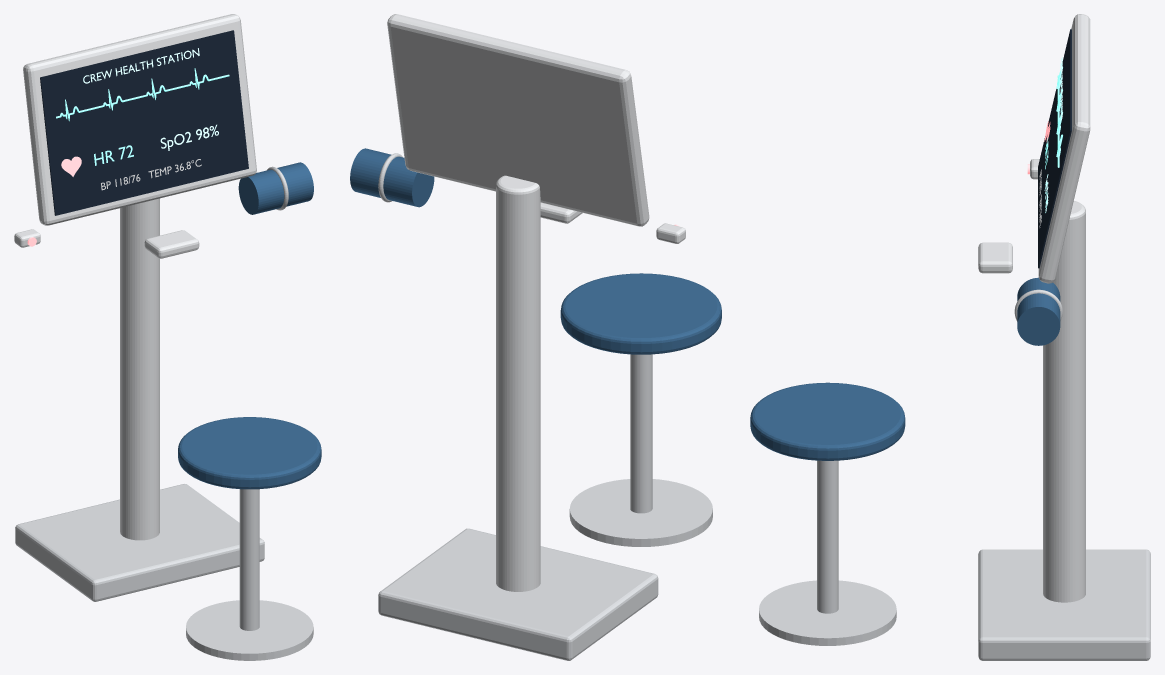
Rendered from health_station.glb.
3 renders of one model, left to right at view 1: azimuth 30°, elevation 25°; view 2: azimuth 150°, elevation 25°; view 3: azimuth 270°, elevation 25°, orthographic. The views are drawn at different scales.
Parts seen in each view (by area): view 1: Base_Plate, HR_Value, SpO2_Value; view 2: Base_Plate; view 3: Base_Plate.
Boxes of the visible parts, left/top/right/bottom form: Base_Plate: left=14, top=14, right=321, bottom=660; HR_Value: left=56, top=68, right=229, bottom=165; SpO2_Value: left=83, top=48, right=218, bottom=150; Base_Plate: left=350, top=14, right=721, bottom=660; Base_Plate: left=750, top=14, right=1150, bottom=660.
Bounding box in the file's own units: 0.83 × 1.41 × 0.93.
5 materials, 5 textured.
